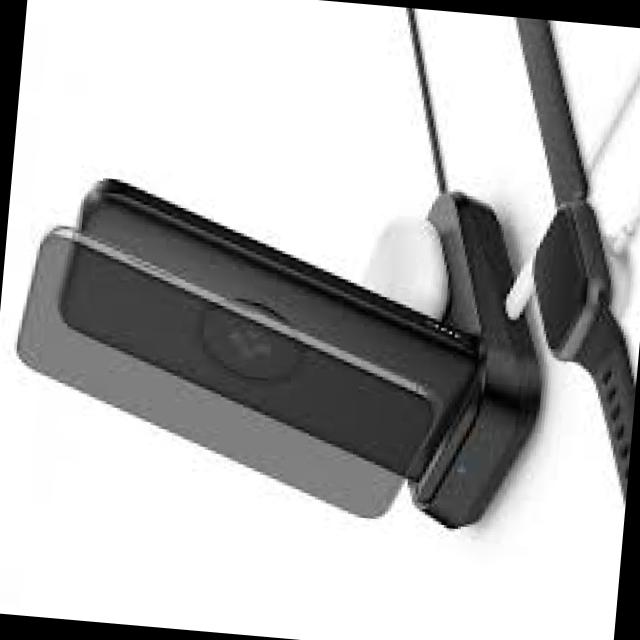portable-charger: (51, 173, 486, 494)
